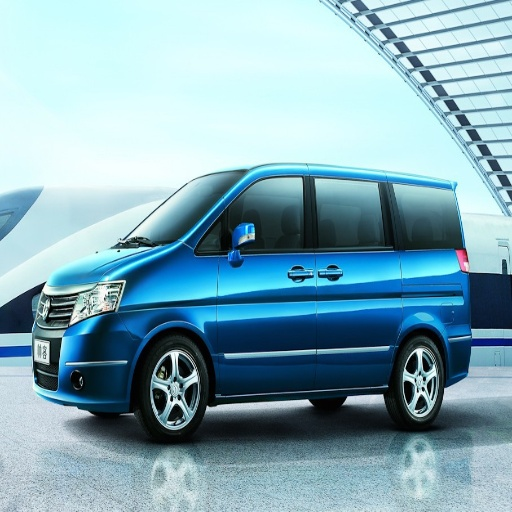back_left_door: (310, 173, 396, 379)
front_bumper: (28, 291, 144, 407)
front_glass: (126, 174, 240, 245)
front_left_door: (203, 171, 315, 389)
trunk: (388, 279, 459, 345)
